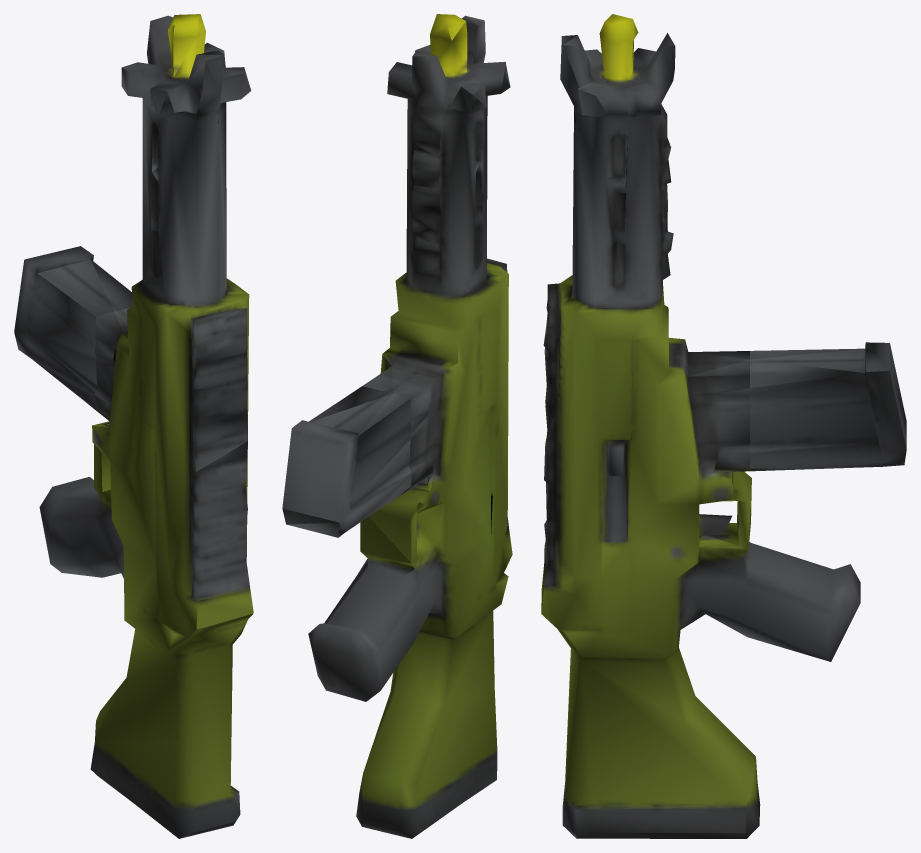
The model's file is trident.glb.
3 renders of one model, left to right at view 1: azimuth 30°, elevation 25°; view 2: azimuth 150°, elevation 25°; view 3: azimuth 270°, elevation 25°, orthographic. The views are drawn at different scales.
Visible parts, largest first — view 1: trident, part_mag; view 2: trident, part_mag; view 3: trident, part_mag.
Boxes of the visible parts, left/top/right/bottom form: trident: left=39, top=14, right=253, bottom=838; part_mag: left=14, top=246, right=133, bottom=407; trident: left=308, top=14, right=512, bottom=838; part_mag: left=282, top=386, right=411, bottom=537; trident: left=541, top=14, right=882, bottom=838; part_mag: left=750, top=342, right=906, bottom=468.
Size of the model in its own units: 0.1164 by 0.906 by 0.3719.
1 material, 1 textured.
